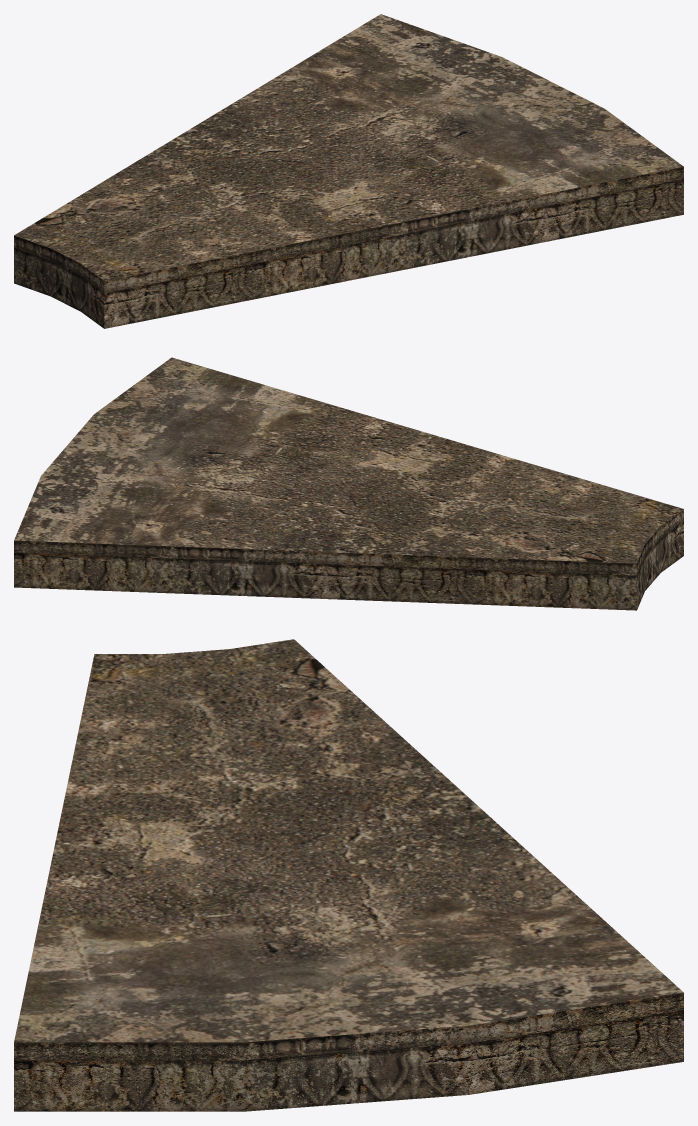
Rendered from materials_5_steps_1.fbx.
The picture shows the model from 3 angles, top to bottom: view 1: azimuth 30°, elevation 25°; view 2: azimuth 150°, elevation 25°; view 3: azimuth 270°, elevation 25°; orthographic projection. The views are drawn at different scales.
Parts seen in each view (by area): view 1: materials_5_steps_1; view 2: materials_5_steps_1; view 3: materials_5_steps_1.
Boxes of the visible parts, bbox=[...] form: materials_5_steps_1: bbox=[14, 14, 683, 328]; materials_5_steps_1: bbox=[14, 357, 683, 610]; materials_5_steps_1: bbox=[14, 639, 683, 1111].
Size of the model in its own units: 87.8 by 7.03 by 61.64.
